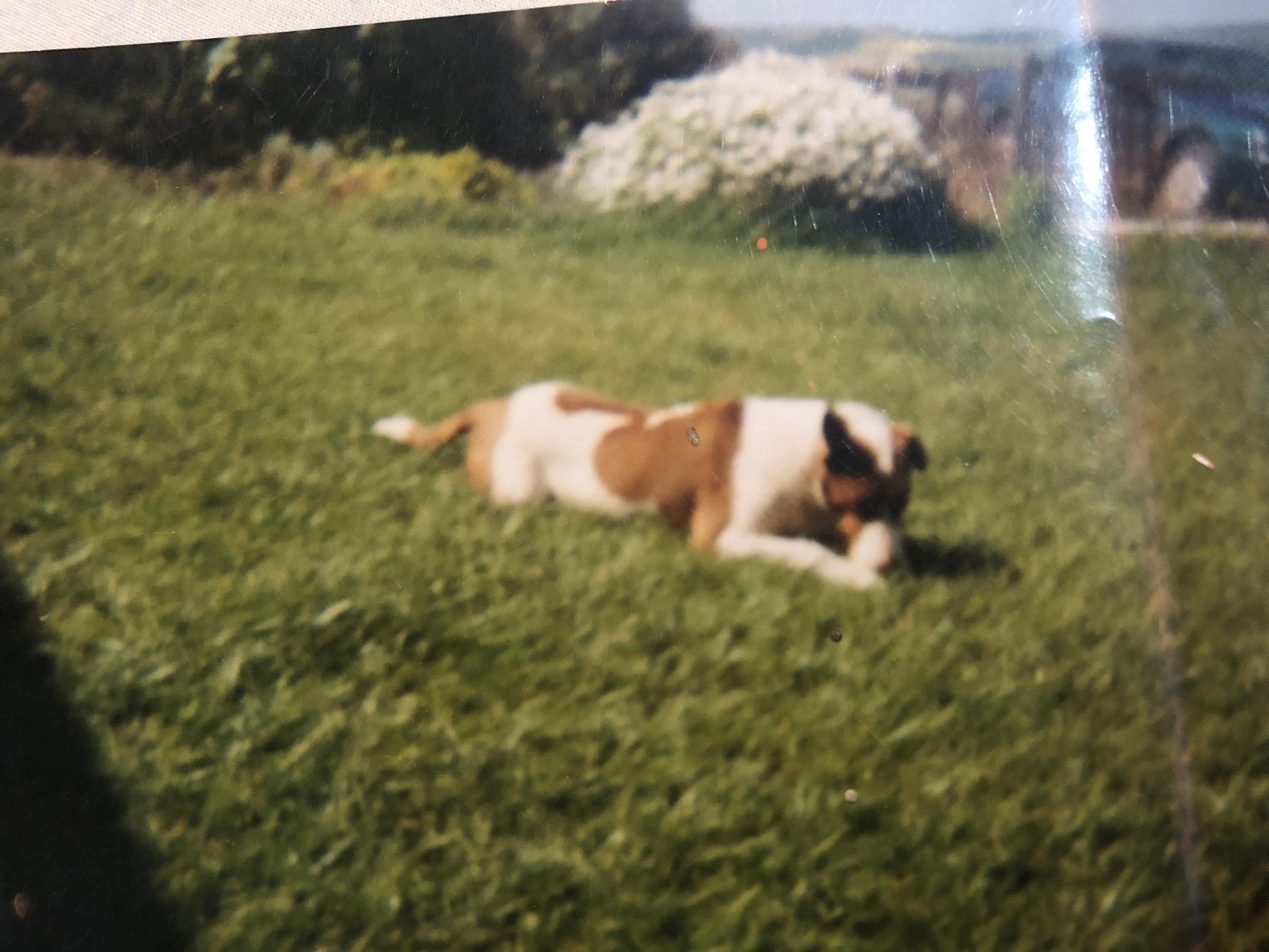adult_dog: (365, 376, 931, 591)
